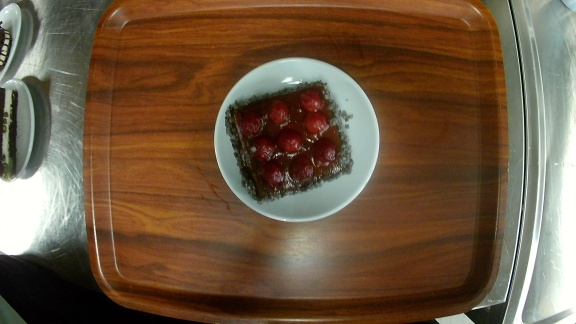cileklipasta: (214, 57, 380, 219)
